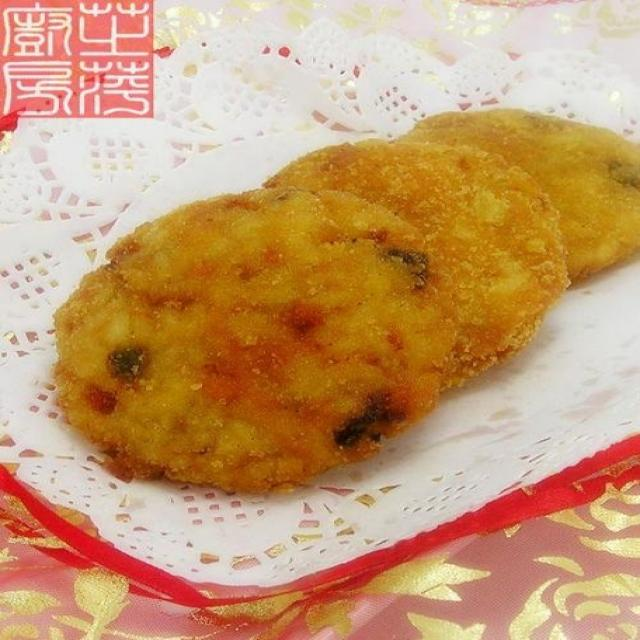炸货点心: (5, 13, 636, 591)
蛋糕甜品: (5, 13, 636, 591)
